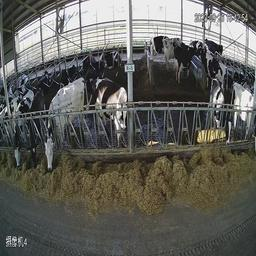cow: (43, 78, 85, 173), (43, 78, 86, 169), (93, 78, 148, 144), (93, 80, 150, 135), (207, 78, 235, 139), (208, 78, 234, 138), (14, 89, 31, 170), (199, 50, 228, 96), (27, 87, 42, 162), (173, 44, 195, 83), (149, 35, 173, 66), (164, 37, 185, 70), (84, 59, 101, 91), (204, 37, 223, 63), (103, 49, 120, 70)
